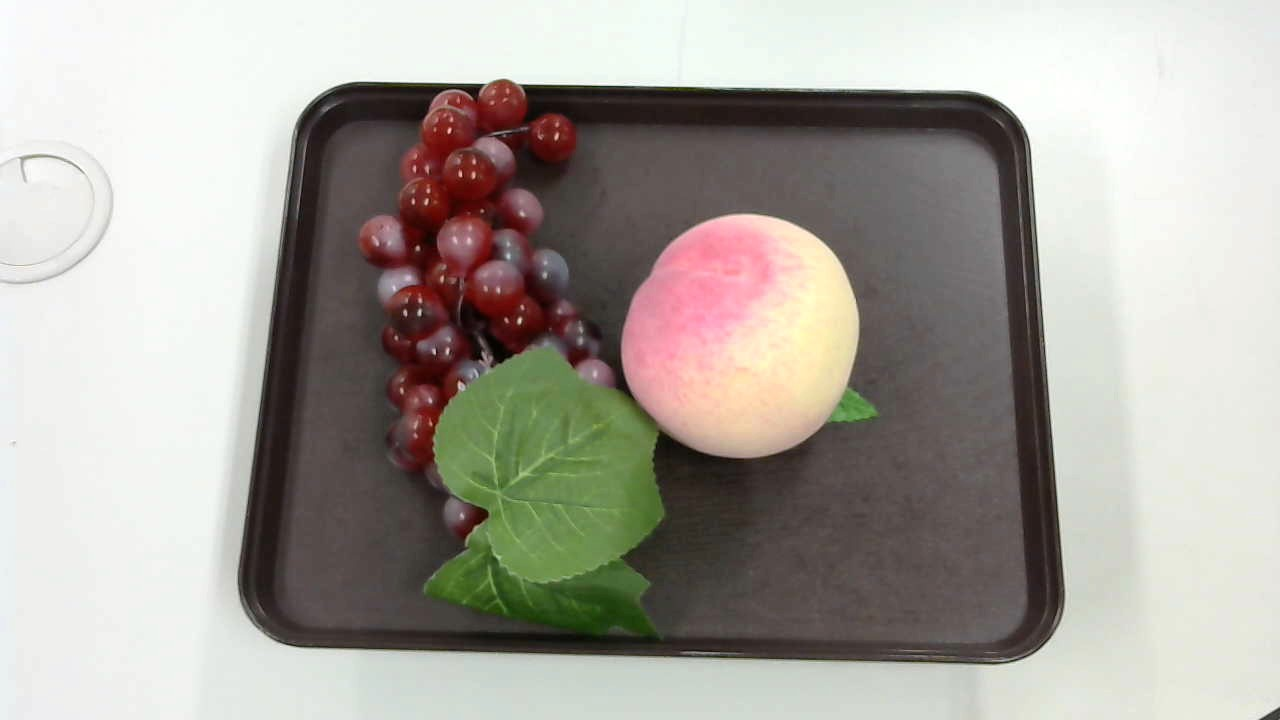grape: (351, 76, 659, 641)
peach: (617, 213, 878, 456)
